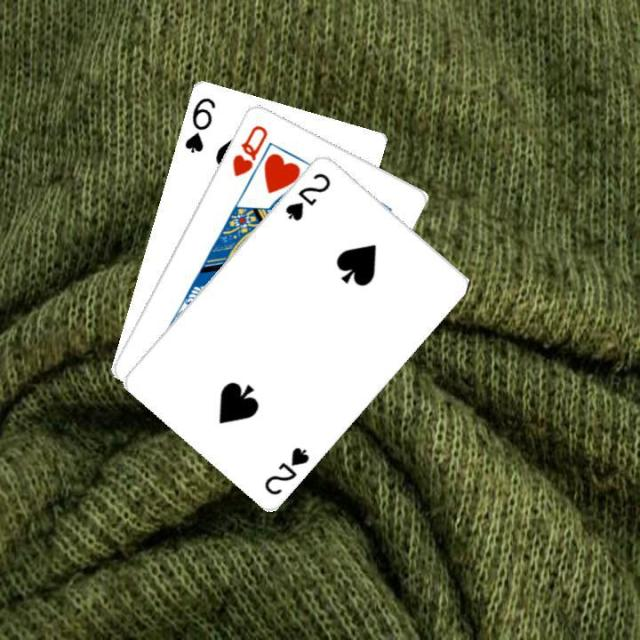2S: (281, 168, 332, 222), (261, 442, 311, 497)
6S: (180, 93, 217, 155)
QH: (228, 120, 270, 178)
